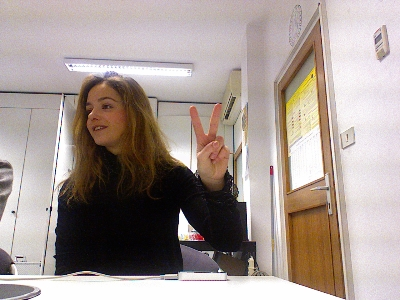剪刀: (186, 101, 231, 183)
